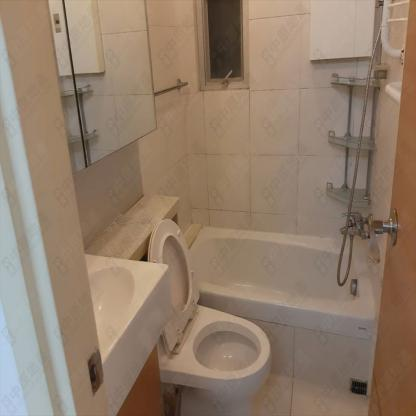Bathtub: (187, 223, 378, 340)
Toilet: (83, 188, 272, 414)
Toilet Sink: (84, 249, 176, 412)
Water Heater: (48, 0, 104, 75), (310, 0, 377, 61)
